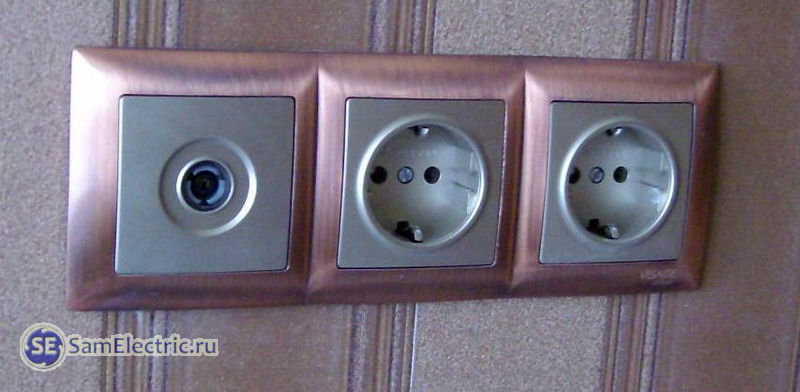raccoon: (360, 115, 485, 252), (561, 115, 676, 246)
